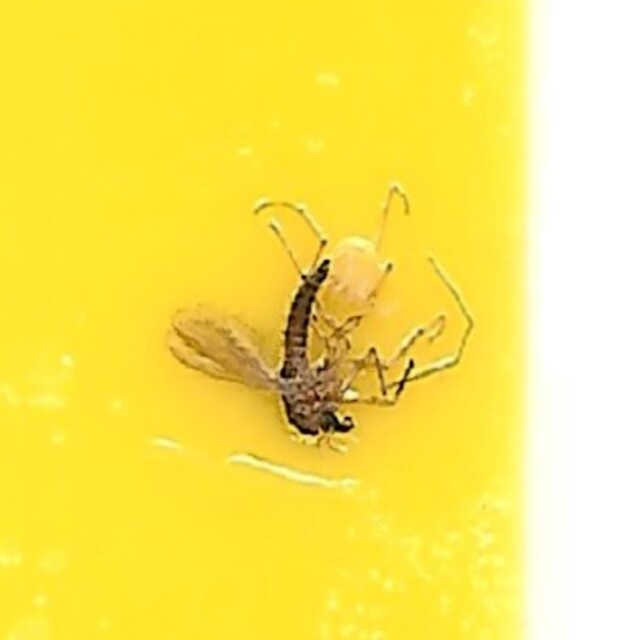Nematocera: (162, 194, 478, 446)
